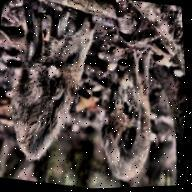boar: (0, 0, 115, 175), (85, 42, 169, 189)
